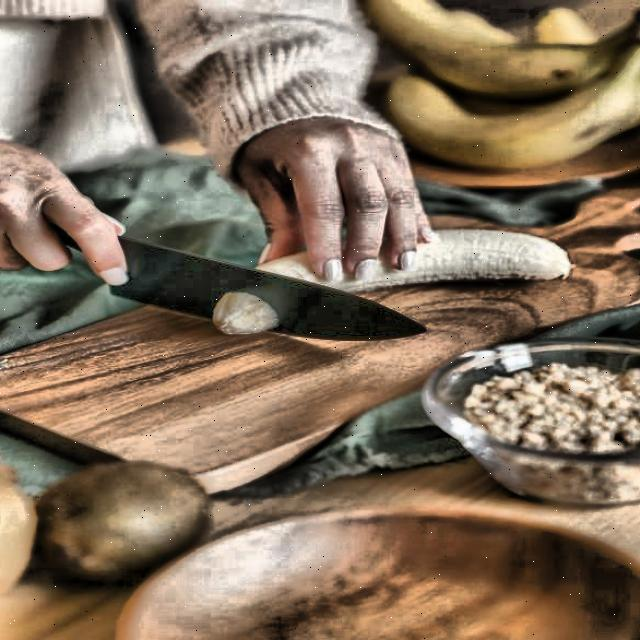knife: (99, 226, 434, 344)
